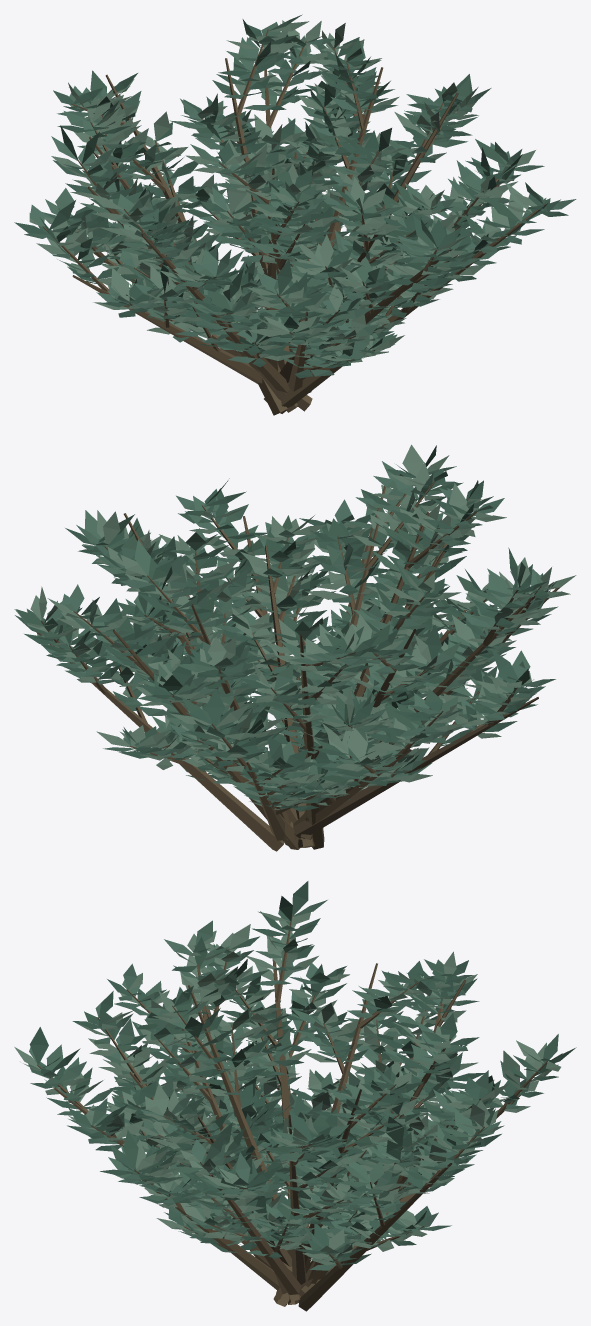
Rendered from bush_10.glb.
The picture shows the model from 3 angles, top to bottom: view 1: azimuth 30°, elevation 25°; view 2: azimuth 150°, elevation 25°; view 3: azimuth 270°, elevation 25°; orthographic projection. The views are drawn at different scales.
Visible parts, largest first — view 1: bush_10; view 2: bush_10; view 3: bush_10.
Part boxes in pixels (x1,y1,x2,y2): bush_10: [14, 14, 576, 415]; bush_10: [14, 444, 576, 851]; bush_10: [14, 881, 576, 1311].
Bounding box in the file's own units: 1.88 × 1.24 × 1.98.
